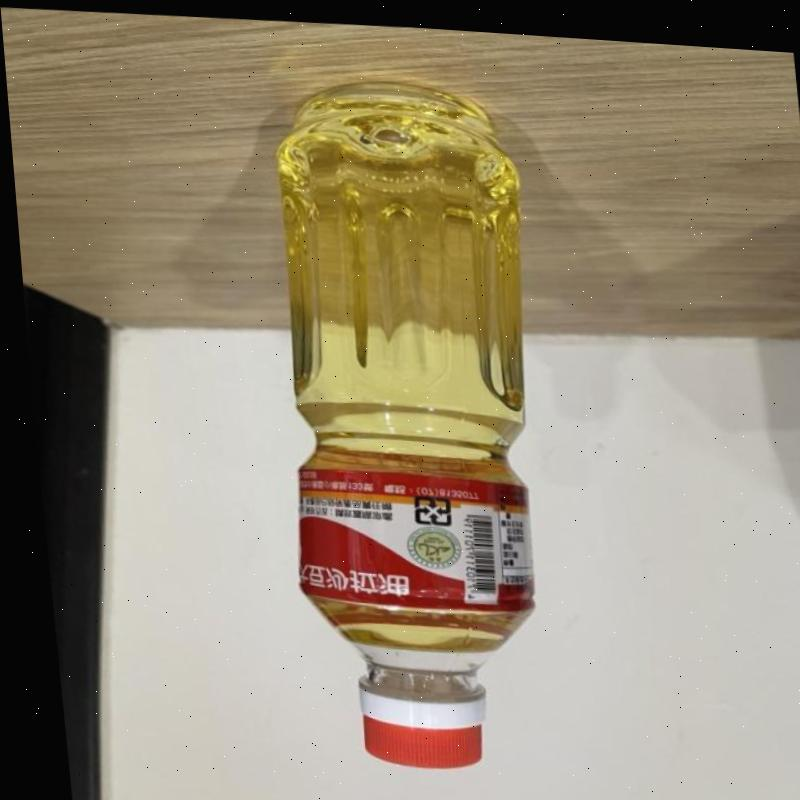botella: (246, 65, 574, 777)
